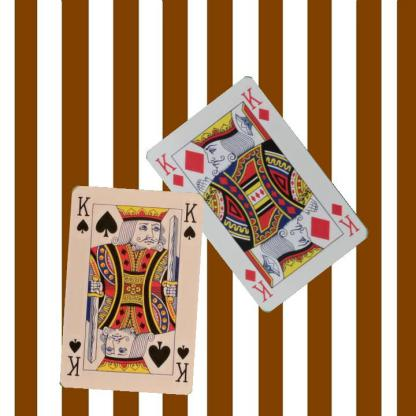Kd: (152, 150, 186, 188), (329, 200, 361, 238)
Ks: (74, 193, 92, 235), (172, 342, 190, 384)
